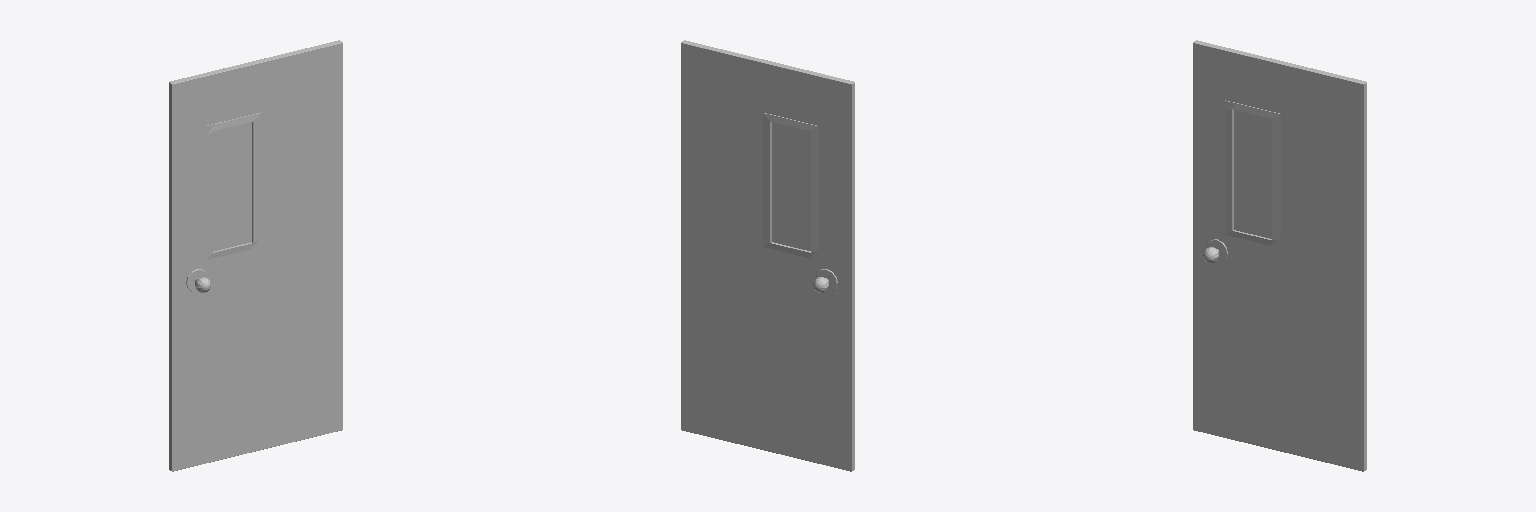
Rendered from ClassroomDoor.obj.
3 views of the same model, side by side, from view 1: azimuth 30°, elevation 25°; view 2: azimuth 150°, elevation 25°; view 3: azimuth 330°, elevation 25° (orthographic).
Visible parts, largest first — view 1: Door; view 2: Door; view 3: Door.
Boxes of the visible parts, x1=… form: Door: x1=169, y1=40, x2=342, y2=471; Door: x1=681, y1=40, x2=854, y2=471; Door: x1=1193, y1=40, x2=1366, y2=471.
Size of the model in its own units: 10.66 by 23.04 by 2.6.